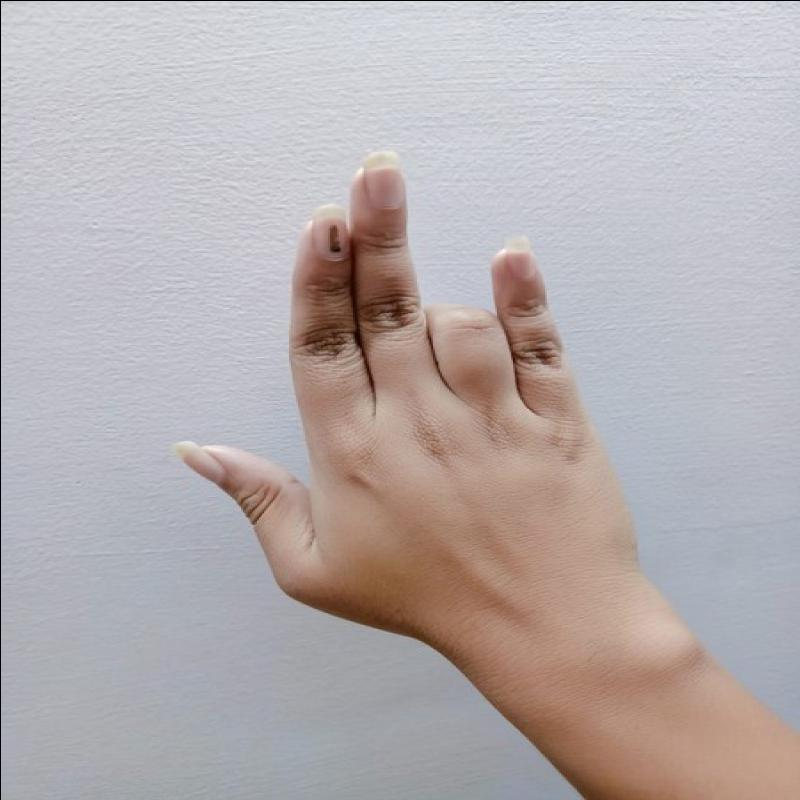Pathaaka: (142, 136, 647, 640)
